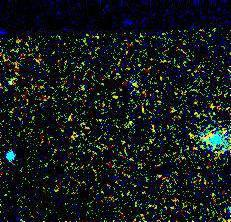star: (192, 121, 222, 151)
